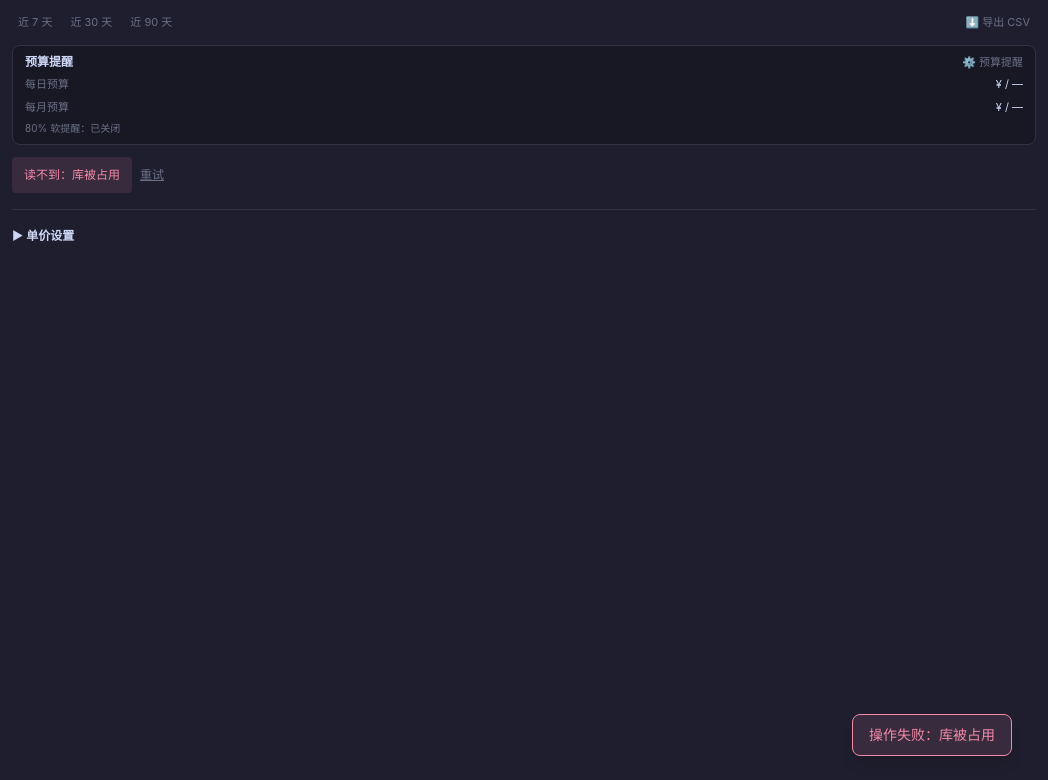
Test case: ② 用量汇总：整张面板的数据源读不到时，说的是「读不到」而不是「加载中…」 › 先读失败再读成功 ⇒ 那句「读不到」必须跟着消失（不能赖在界面上）
This screenshot has width=1048, height=780.
Click the button "近 7 天".
click(35, 22)  # box [12,12,58,32]
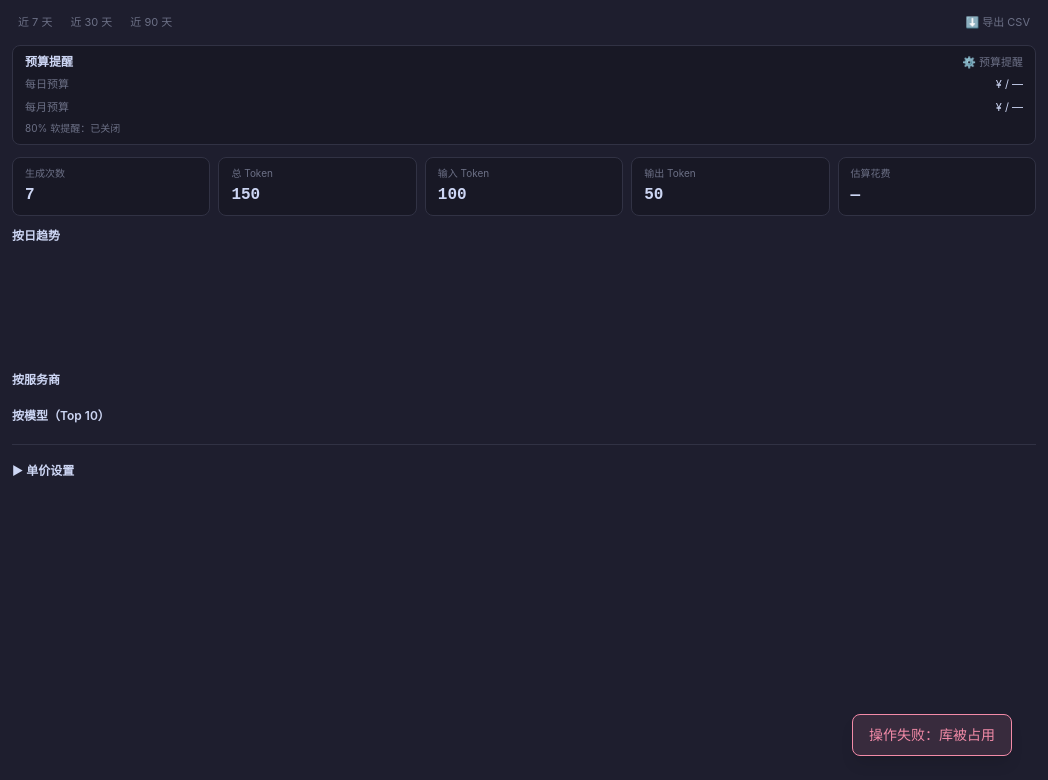
Result: the text "7" is shown at [25,186,35,204]
